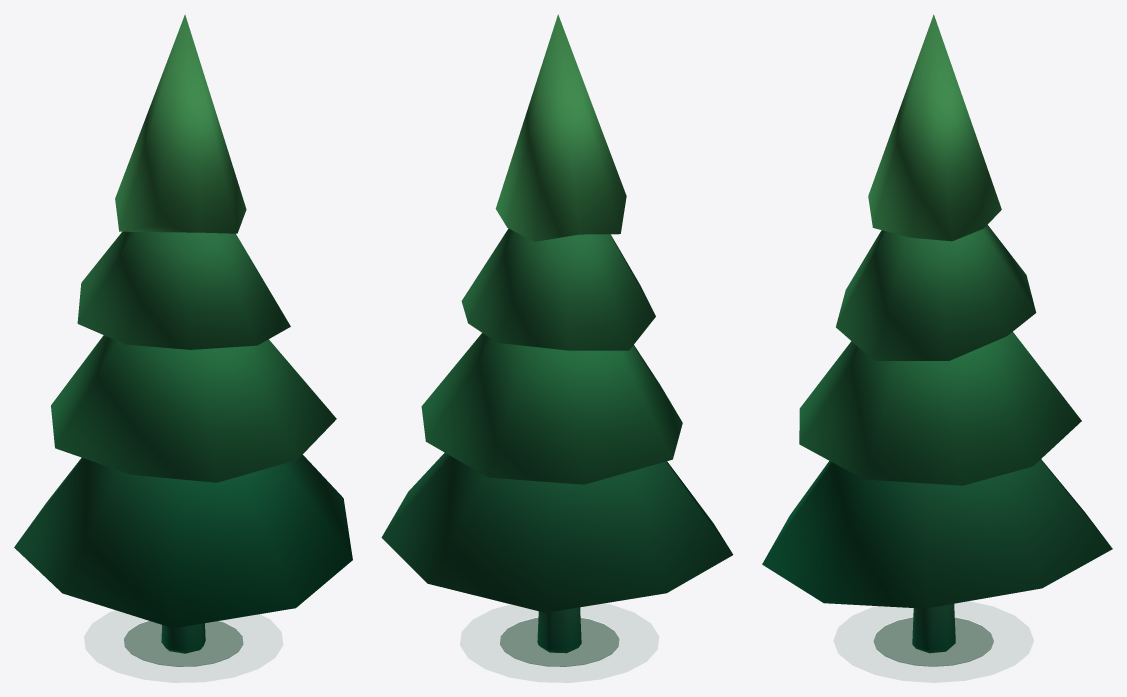
Rendered from pine.glb.
The picture shows the model from 3 angles, left to right: view 1: azimuth 30°, elevation 25°; view 2: azimuth 150°, elevation 25°; view 3: azimuth 270°, elevation 25°; orthographic projection.
Parts seen in each view (by area): view 1: pine; view 2: pine; view 3: pine.
Boxes of the visible parts, x1,y1,x2,y2 form: pine: (14, 14, 352, 666); pine: (381, 14, 733, 666); pine: (762, 14, 1112, 666).
Size of the model in its own units: 1.92 by 3.82 by 1.92.
